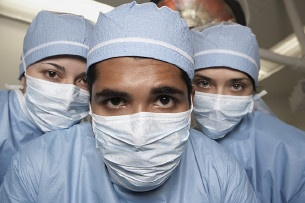Mask: (23, 57, 98, 132)
